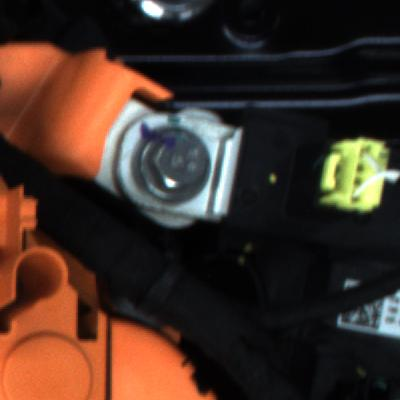nut_b: (123, 119, 225, 211)
